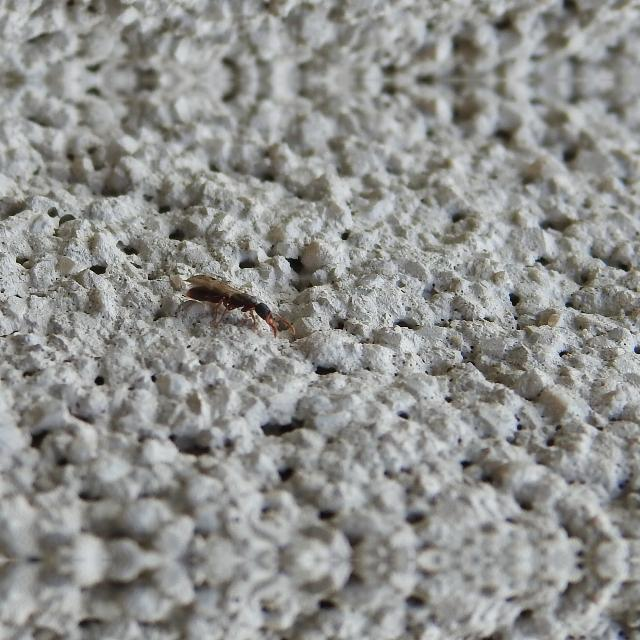Ponera: (175, 262, 297, 342)
